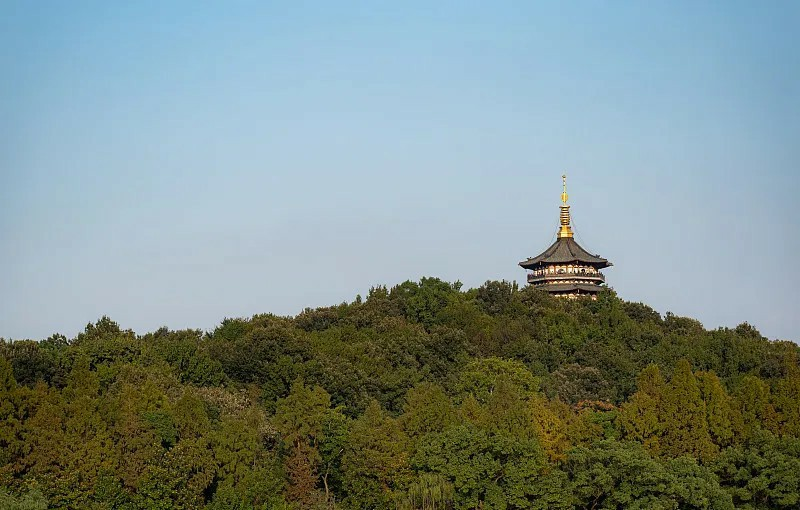Leifeng: (516, 173, 615, 301)
